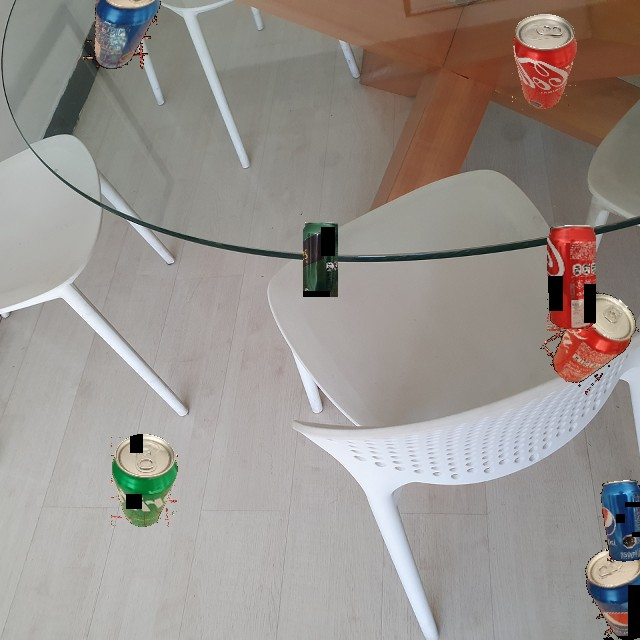coca cola: (535, 282, 640, 397), (512, 14, 578, 110), (547, 225, 596, 331)
pepsi: (580, 539, 640, 640), (82, 0, 167, 69), (599, 479, 640, 563)
schweppes: (303, 222, 338, 297)
sprite: (111, 434, 178, 528)
